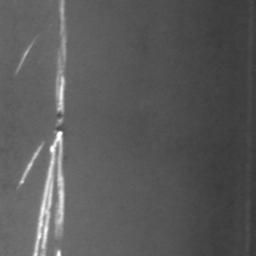Bright scratch: (18, 0, 68, 256), (14, 42, 36, 76)
